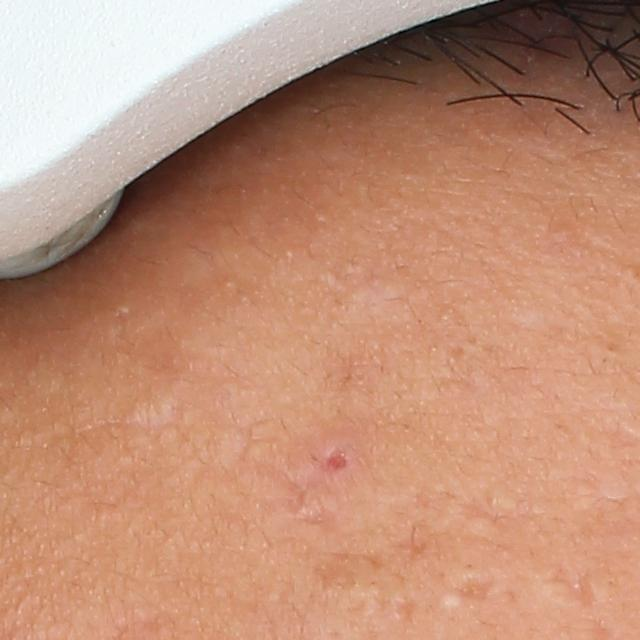atrophic_scar: (538, 561, 595, 612), (453, 490, 520, 532), (453, 572, 499, 600), (391, 593, 422, 624), (318, 449, 348, 471)
hypertrophic_scar: (437, 591, 464, 611)
